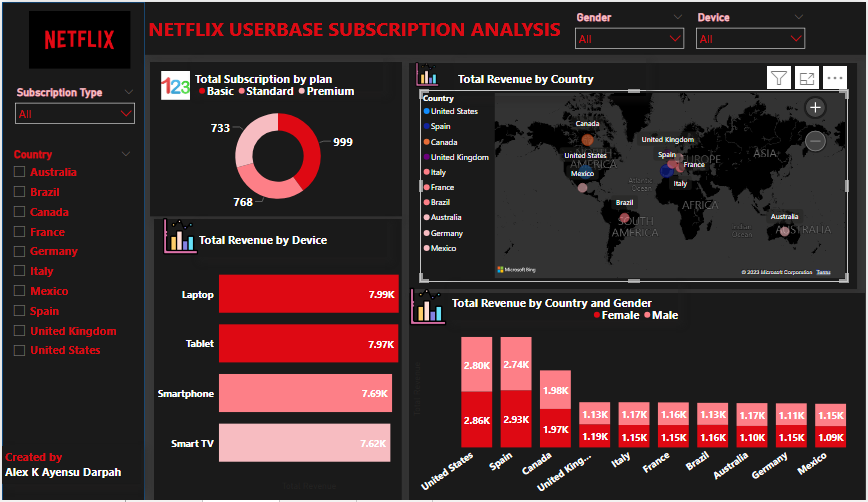

The page's visual inventory and layout, read from the dashboard file:
{"tool":"powerbi","page":{"name":"Page 2","canvas":[1440,840],"ordinal":1},"visuals":[{"type":"shape","box":[0,0,238.1,840],"z":0},{"type":"textbox","box":[237.9,0,1202.1,87.6],"z":1000},{"type":"image","box":[10,10,238.1,105.8],"z":2000},{"type":"slicer","fields":{"Values":["NetflixUserbase.Gender"]},"box":[944.2,9.9,201.7,82.7],"z":3000},{"type":"slicer","fields":{"Values":["NetflixUserbase.Device"]},"box":[1145.9,9.9,201.7,82.7],"z":4000},{"type":"slicer","fields":{"Values":["NetflixUserbase.Subscription Type"]},"box":[11.6,135.6,219.9,82.7],"z":5000},{"type":"slicer","fields":{"Values":["NetflixUserbase.Country"]},"box":[6.6,238.1,219.9,378.7],"z":6000},{"type":"shape","box":[246.4,99.2,420,258],"z":7000},{"type":"image","box":[253.1,109.4,71.1,57.9],"z":8000},{"type":"textbox","box":[317.5,92.6,319.1,54.6],"z":9000},{"type":"donutChart","fields":{"Y":["NetflixUserbase.Total Subscription"],"Category":["NetflixUserbase.Subscription Type"]},"box":[253,125.7,413.4,228.2],"z":10000},{"type":"shape","box":[253,362.1,413.4,471.3],"z":11000},{"type":"barChart","fields":{"Category":["NetflixUserbase.Device"],"Y":["NetflixUserbase.Total Revenue"]},"box":[253,408.4,413.4,411.7],"z":12000},{"type":"textbox","box":[322.8,362.5,319.1,64.5],"z":13000},{"type":"image","box":[259.6,354.2,74.4,71.1],"z":14000},{"type":"shape","box":[678,100.9,747.4,377],"z":15000},{"type":"map","fields":{"Category":["NetflixUserbase.Country"],"Size":["NetflixUserbase.Total Revenue"],"Series":["NetflixUserbase.Country"]},"box":[696.1,147.2,714.3,319.1],"z":16000},{"type":"textbox","box":[755.7,92.6,319.1,64.5],"z":17000},{"type":"image","box":[682.9,95.7,51.4,51.4],"z":18000},{"type":"shape","box":[678,484.5,760.6,355.5],"z":19000},{"type":"columnChart","fields":{"Category":["NetflixUserbase.Country"],"Y":["NetflixUserbase.Total Revenue"],"Series":["NetflixUserbase.Gender"]},"box":[678,497.7,760.6,335.7],"z":20000},{"type":"textbox","box":[745.7,466.3,382,64.5],"z":21000},{"type":"image","box":[673.1,469.7,72.8,74.4],"z":22000},{"type":"textbox","box":[0,740.8,231.5,62.8],"z":27000},{"type":"slicer","fields":{"Values":["NetflixUserbase.Join Date.Variation.Date Hierarchy.Year"]},"box":[11.6,616.8,219.9,100.9],"z":27001}]}

Visuals, with their boxes in screenshot pixels (x1, y1, x2, y2), scaled from the page's 1440x840 canvas onto the 868x502 screenshot:
shape: {"left": 0, "top": 0, "right": 144, "bottom": 501}
textbox: {"left": 143, "top": 0, "right": 867, "bottom": 52}
image: {"left": 6, "top": 6, "right": 150, "bottom": 69}
slicer - NetflixUserbase.Gender: {"left": 569, "top": 6, "right": 691, "bottom": 55}
slicer - NetflixUserbase.Device: {"left": 691, "top": 6, "right": 812, "bottom": 55}
slicer - NetflixUserbase.Subscription Type: {"left": 7, "top": 81, "right": 140, "bottom": 130}
slicer - NetflixUserbase.Country: {"left": 4, "top": 142, "right": 137, "bottom": 369}
shape: {"left": 149, "top": 59, "right": 402, "bottom": 213}
image: {"left": 153, "top": 65, "right": 195, "bottom": 100}
textbox: {"left": 191, "top": 55, "right": 384, "bottom": 88}
donutChart - NetflixUserbase.Total Subscription x NetflixUserbase.Subscription Type: {"left": 153, "top": 75, "right": 402, "bottom": 211}
shape: {"left": 153, "top": 216, "right": 402, "bottom": 498}
barChart - NetflixUserbase.Device x NetflixUserbase.Total Revenue: {"left": 153, "top": 244, "right": 402, "bottom": 490}
textbox: {"left": 195, "top": 217, "right": 387, "bottom": 255}
image: {"left": 156, "top": 212, "right": 201, "bottom": 254}
shape: {"left": 409, "top": 60, "right": 859, "bottom": 286}
map - NetflixUserbase.Country x NetflixUserbase.Total Revenue: {"left": 420, "top": 88, "right": 850, "bottom": 279}
textbox: {"left": 456, "top": 55, "right": 648, "bottom": 94}
image: {"left": 412, "top": 57, "right": 443, "bottom": 88}
shape: {"left": 409, "top": 290, "right": 867, "bottom": 501}
columnChart - NetflixUserbase.Country x NetflixUserbase.Total Revenue: {"left": 409, "top": 297, "right": 867, "bottom": 498}
textbox: {"left": 449, "top": 279, "right": 680, "bottom": 317}
image: {"left": 406, "top": 281, "right": 450, "bottom": 325}
textbox: {"left": 0, "top": 443, "right": 140, "bottom": 480}
slicer - NetflixUserbase.Join Date.Variation.Date Hierarchy.Year: {"left": 7, "top": 369, "right": 140, "bottom": 429}
